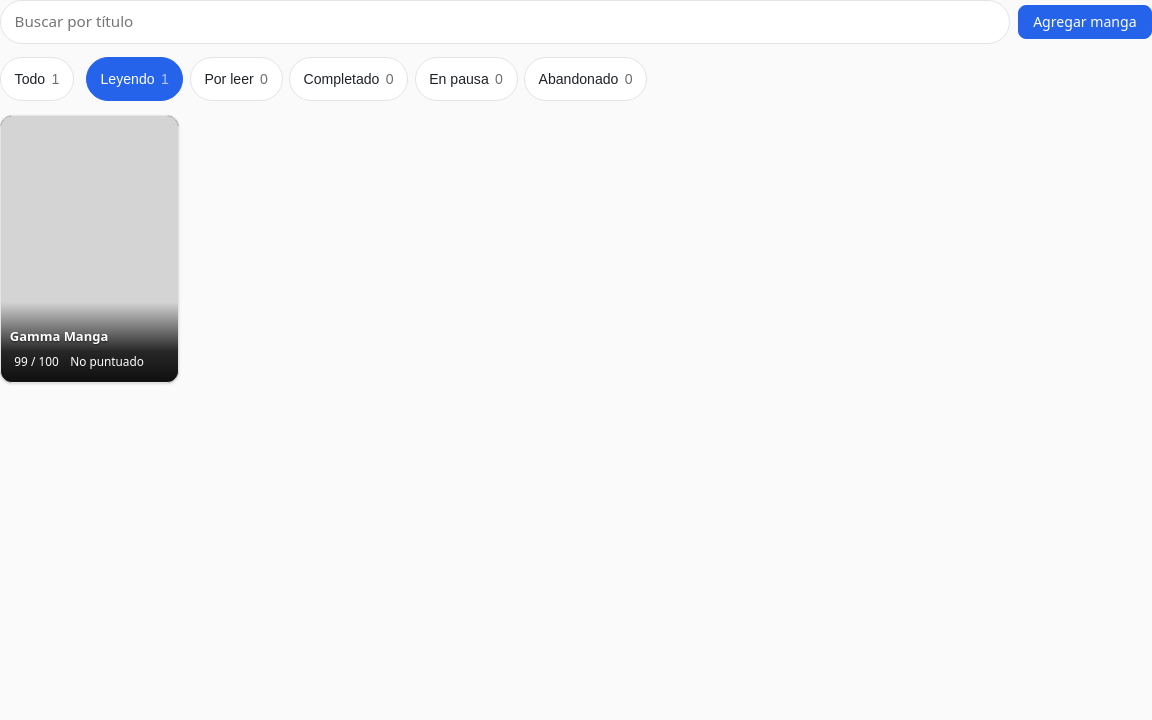
BookmarkListContainer › the optimistic caught-up state › shows the card caught up as soon as the save is committed, before the PATCH or refetch resolve
The image size is (1152, 720).
Click the button named "Editar capítulo leído" at (37, 361), box [10,348,63,374]
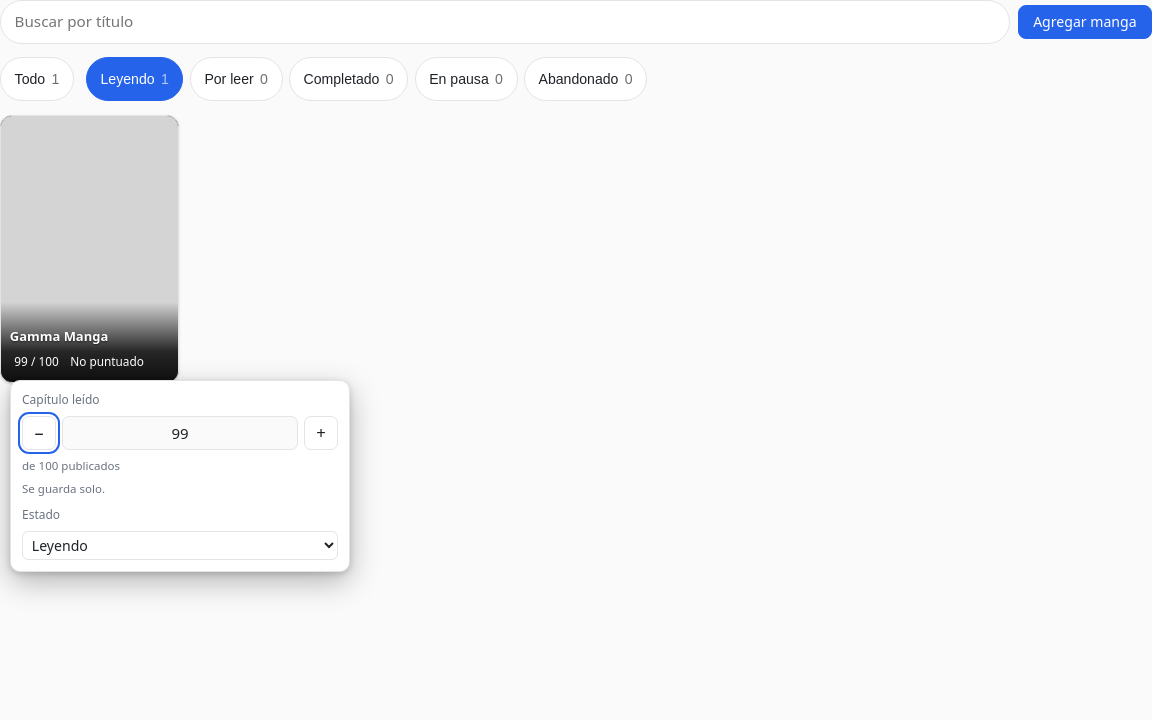
Replace the text in the field named "Capítulo leído" with "100" at (180, 433), box [62,416,298,450]
Then press Enter
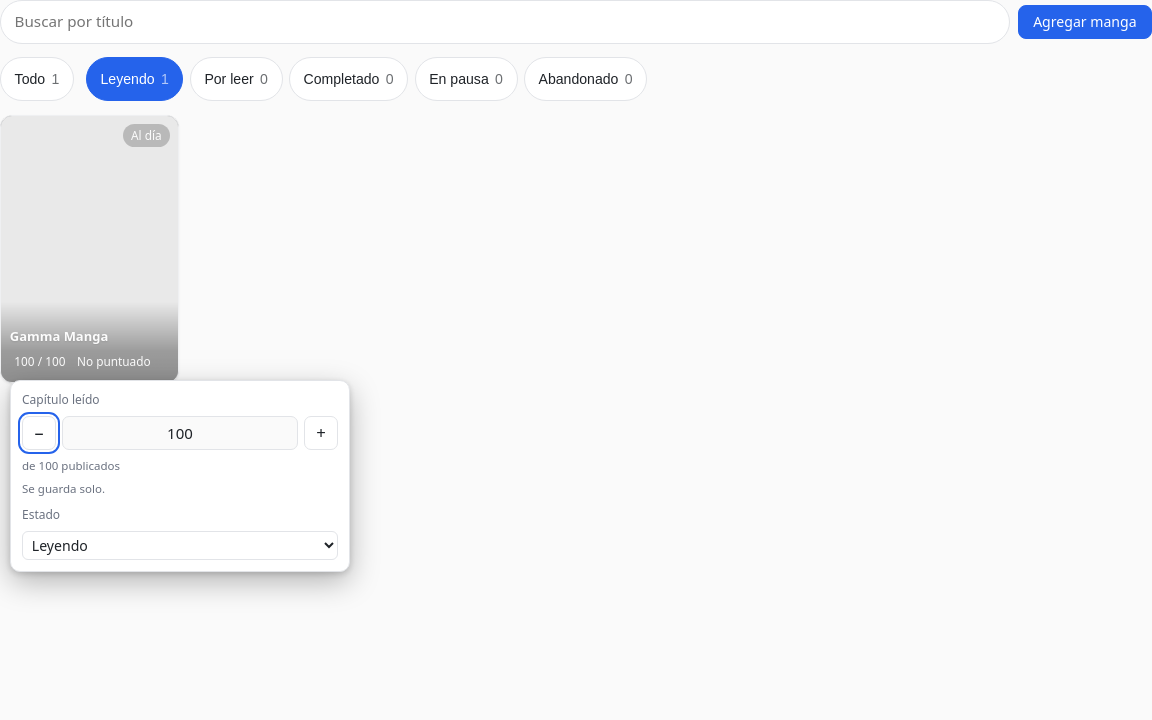
Now the text "Al día" is shown, box [123,124,170,146]
